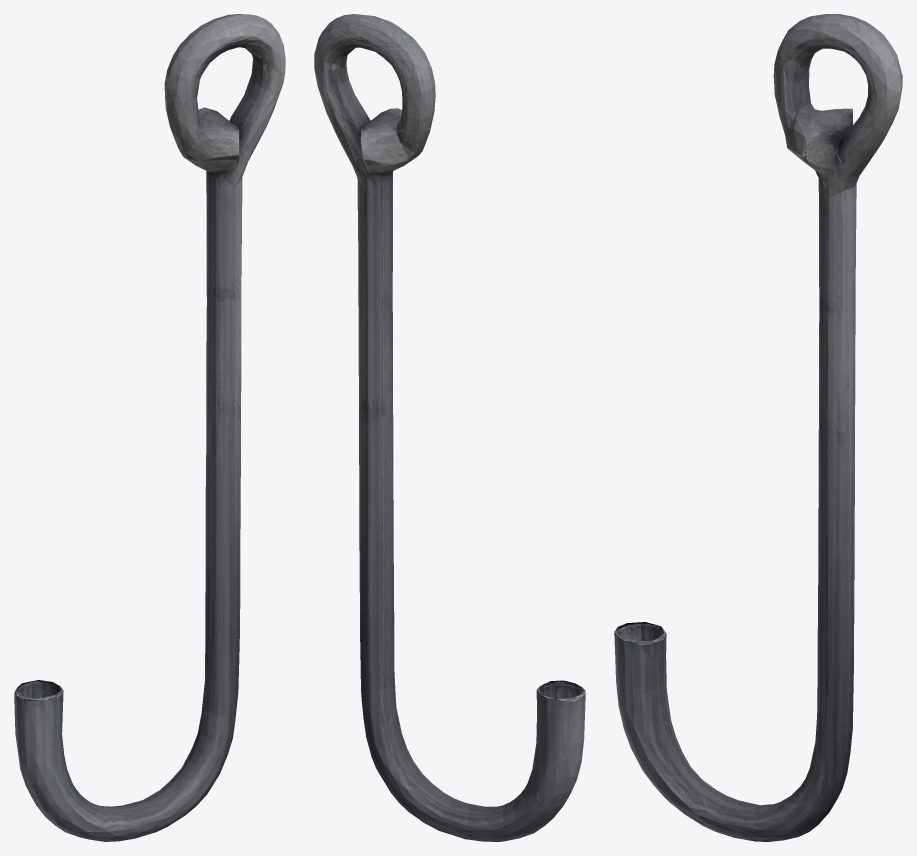
The model's file is hook_1.glb.
3 renders of one model, left to right at view 1: azimuth 30°, elevation 25°; view 2: azimuth 150°, elevation 25°; view 3: azimuth 330°, elevation 25°, orthographic. The views are drawn at different scales.
Parts seen in each view (by area): view 1: world; view 2: world; view 3: world.
Part boxes in pixels (<box>): world: <box>14,14,285,841</box>; world: <box>314,14,585,841</box>; world: <box>614,14,902,841</box>.
Size of the model in its own units: 0.3496 by 0.9945 by 0.1067.
1 material, 1 textured.
